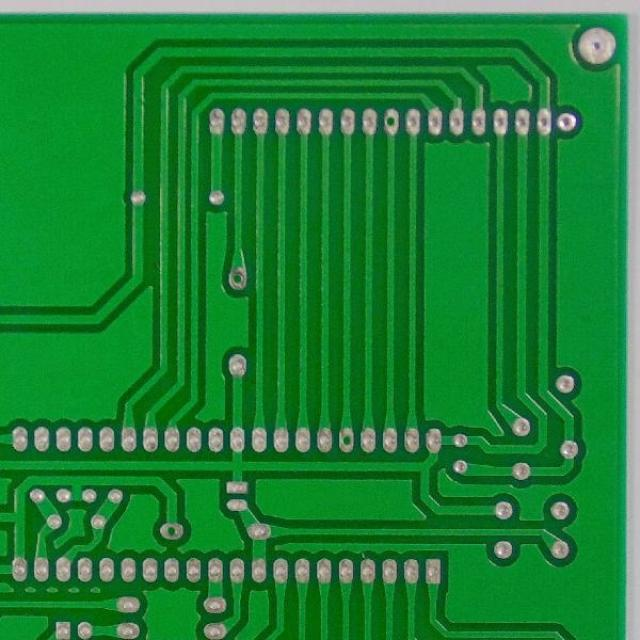Missing_Hole: (226, 265, 249, 291), (158, 519, 183, 541), (336, 426, 355, 453), (382, 109, 401, 133)
